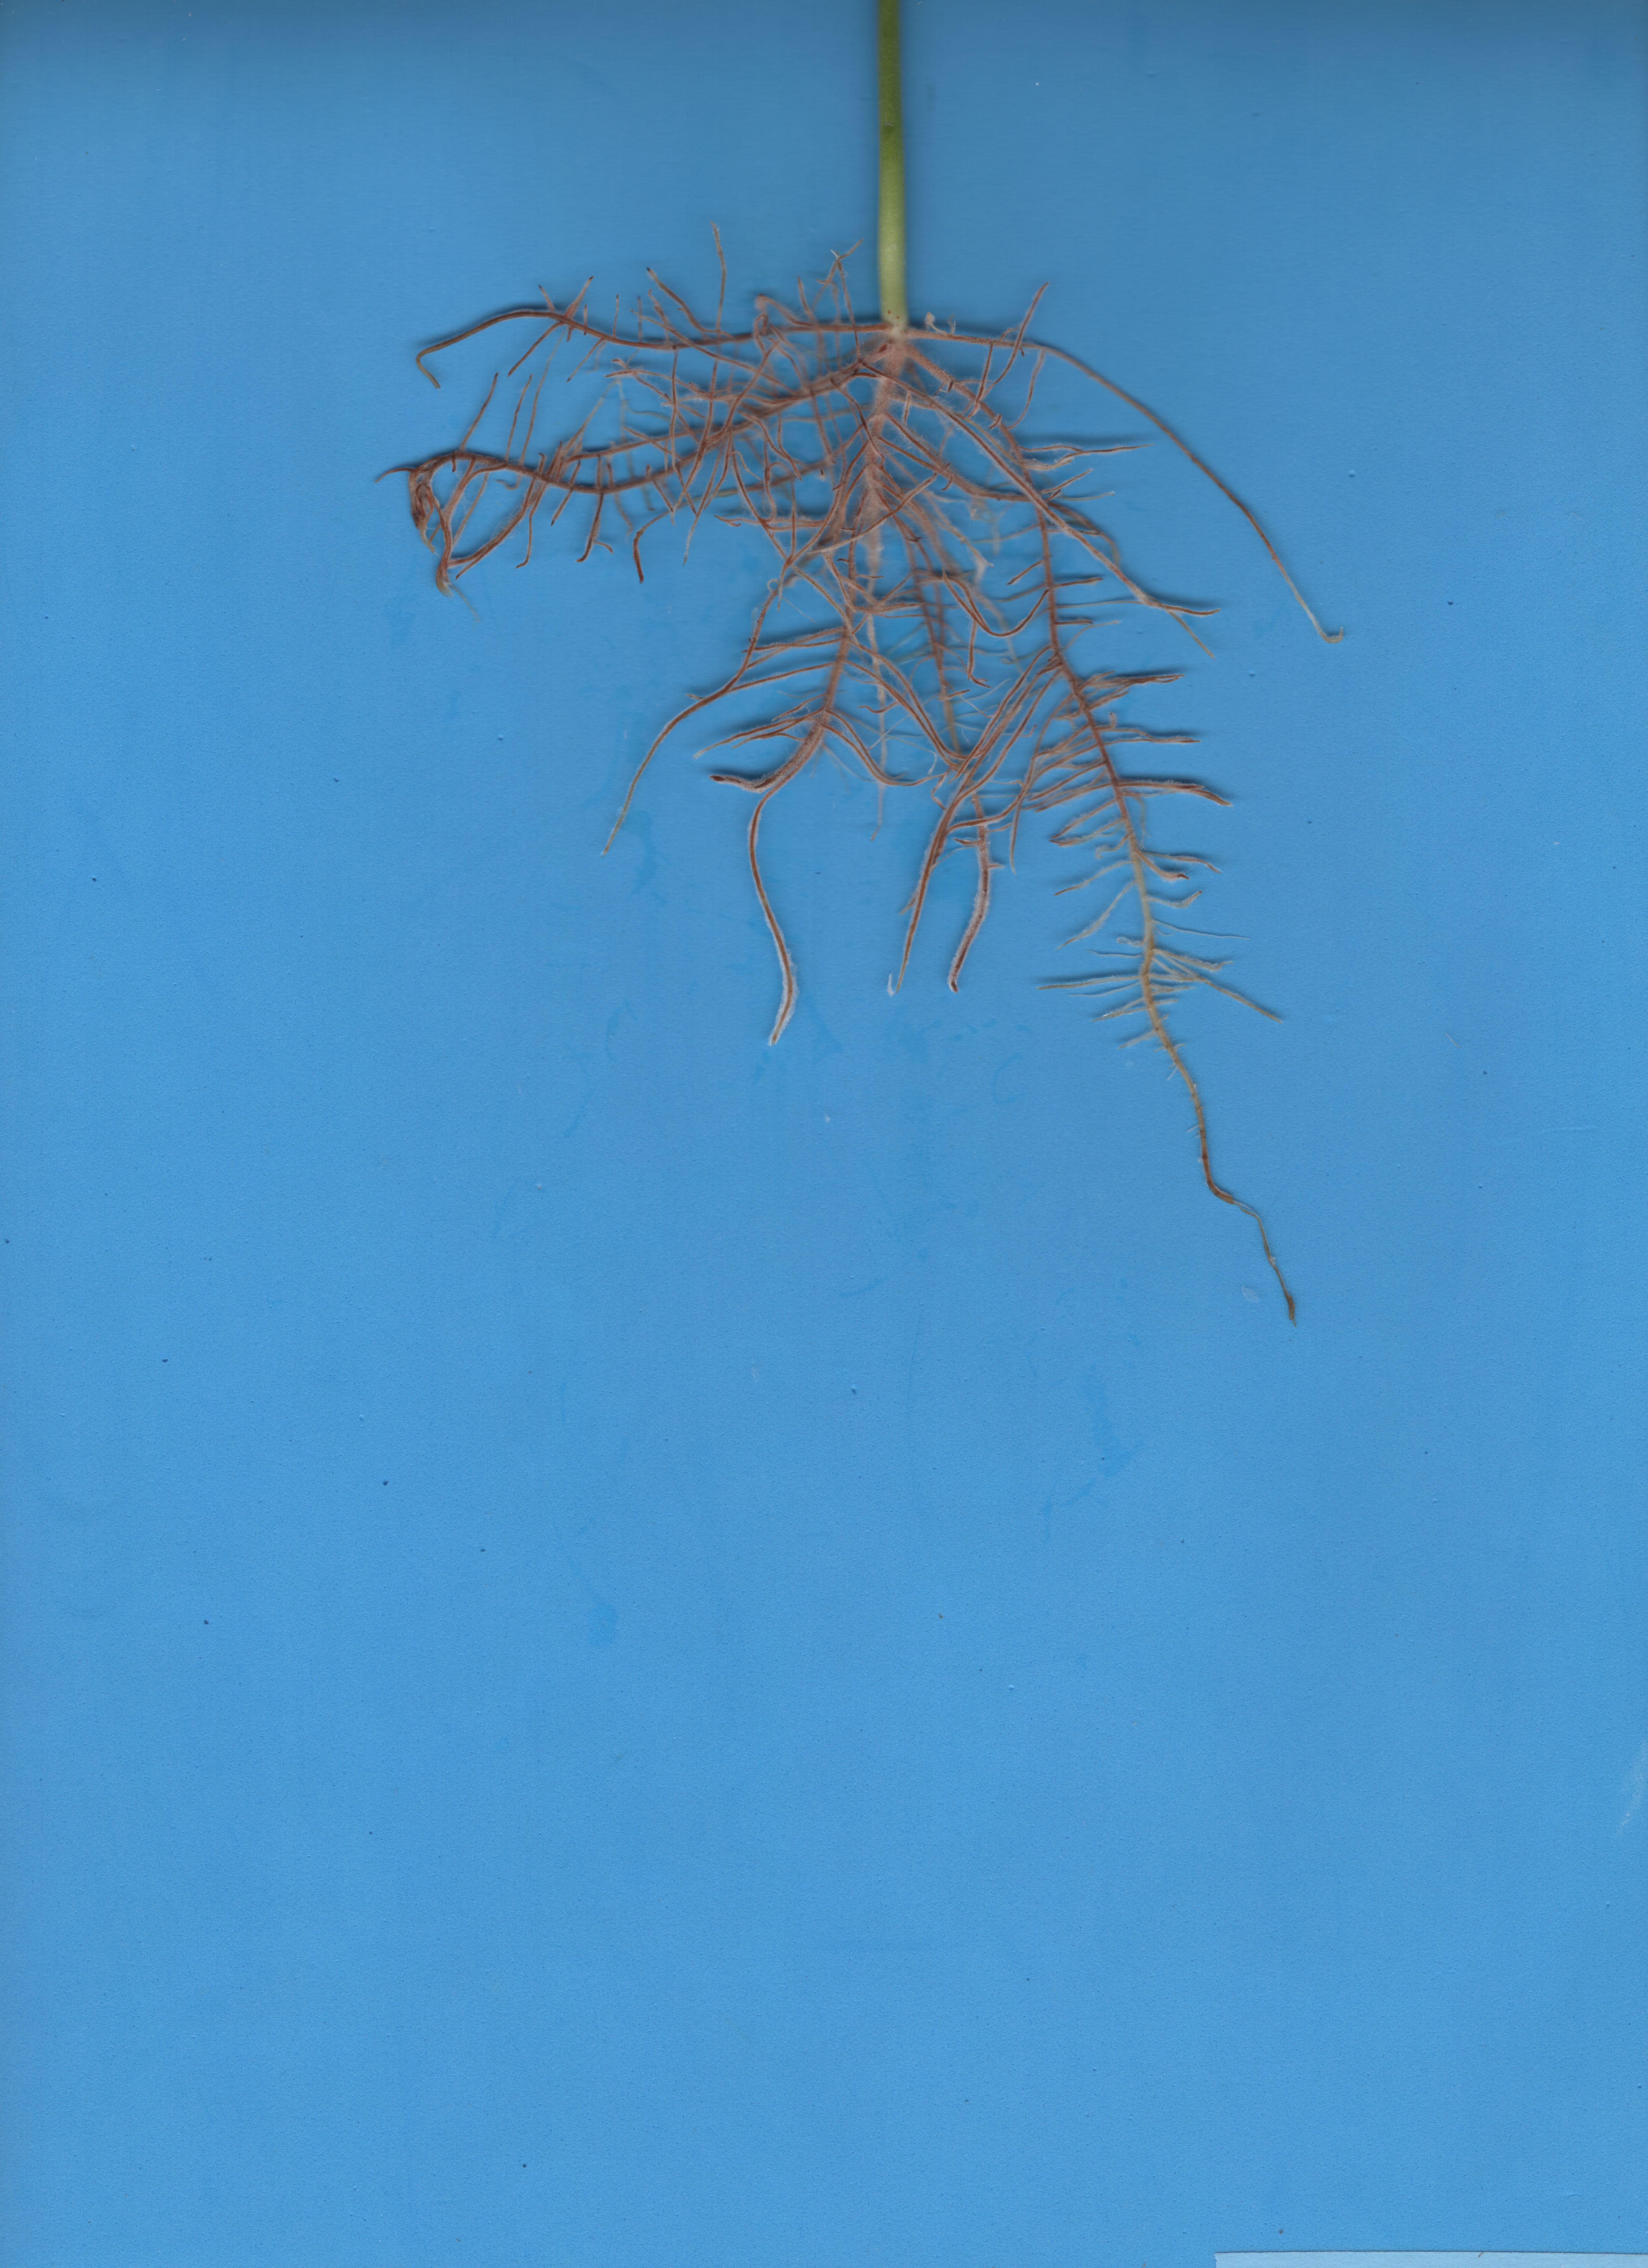CROWNGOOD: (840, 0, 961, 315)
ROOTDISEASE: (345, 264, 1403, 1379)
